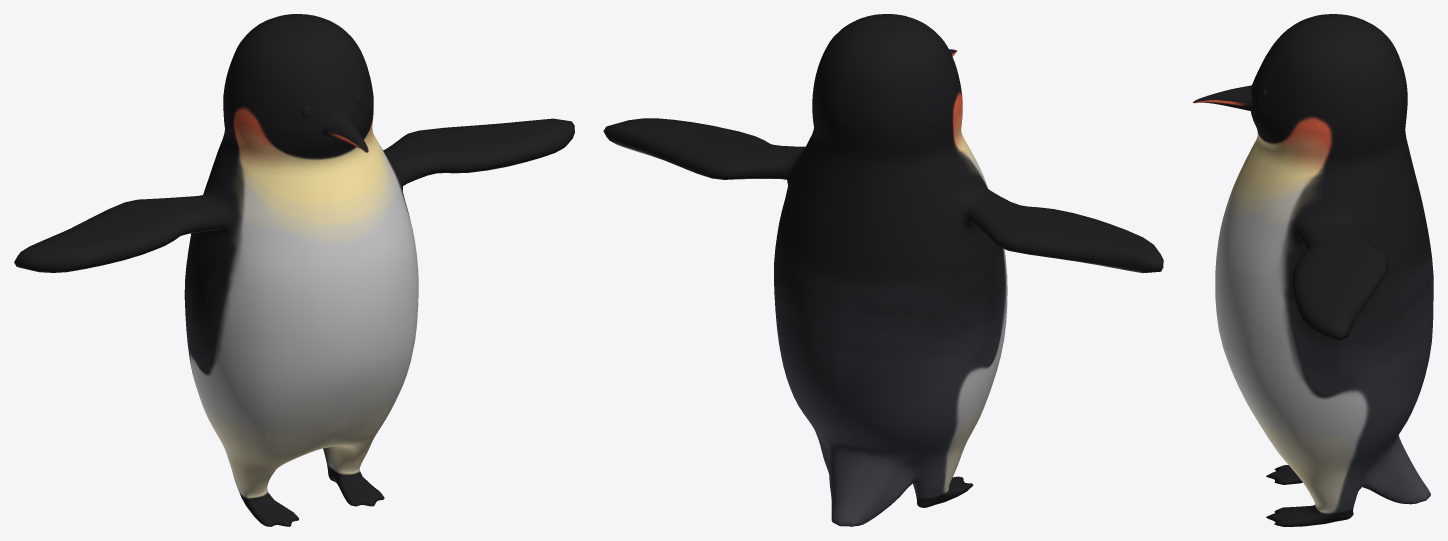
Rendered from adult_penguin2.fbx.
3 views of the same model, side by side, from view 1: azimuth 30°, elevation 25°; view 2: azimuth 150°, elevation 25°; view 3: azimuth 270°, elevation 25° (orthographic).
Visible parts, largest first — view 1: ault_p; view 2: ault_p; view 3: ault_p.
Part boxes in pixels (x1,y1,x2,y2): ault_p: (14, 14, 574, 526); ault_p: (603, 14, 1163, 526); ault_p: (1192, 14, 1433, 526).
Bounding box in the file's own units: 406 × 885 × 1100.
